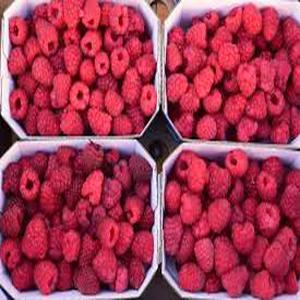raspb: (173, 157, 294, 294)
